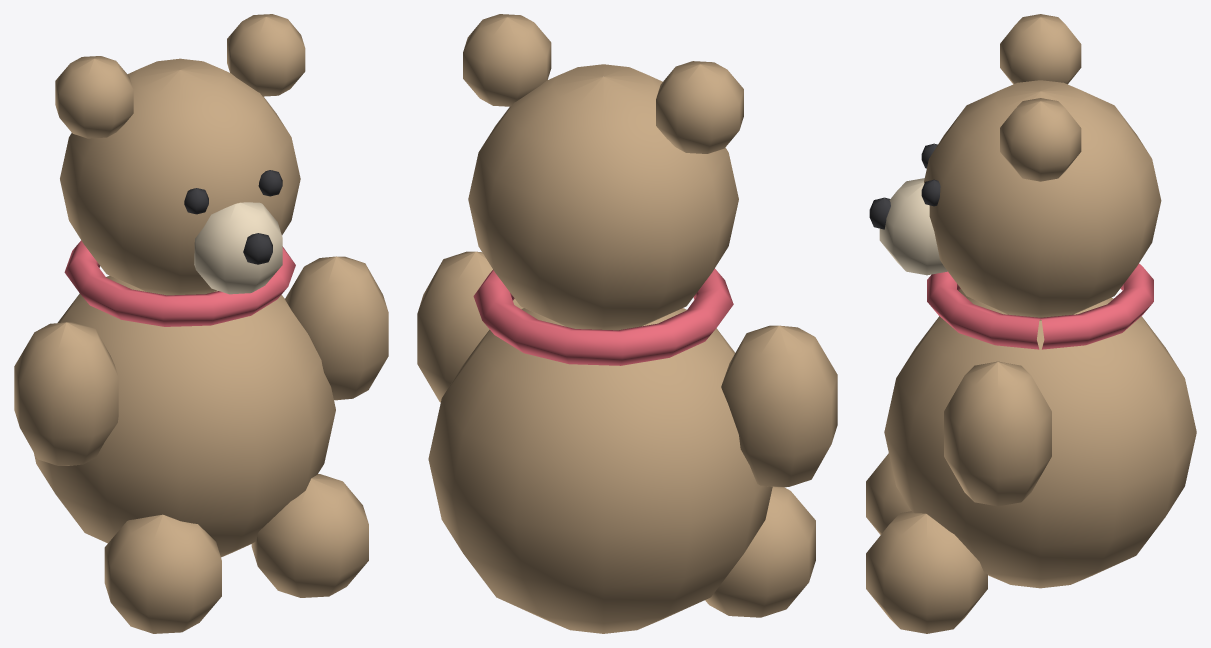
Rendered from teddy_bear.glb.
3 views of the same model, side by side, from view 1: azimuth 30°, elevation 25°; view 2: azimuth 150°, elevation 25°; view 3: azimuth 270°, elevation 25° (orthographic). The views are drawn at different scales.
Parts seen in each view (by area): view 1: teddy_bear; view 2: teddy_bear; view 3: teddy_bear.
Boxes of the visible parts, x1,y1,x2,y2 form: teddy_bear: (14, 14, 388, 633); teddy_bear: (417, 14, 837, 633); teddy_bear: (866, 14, 1196, 633).
Bounding box in the file's own units: 0.2963 × 0.415 × 0.233.
